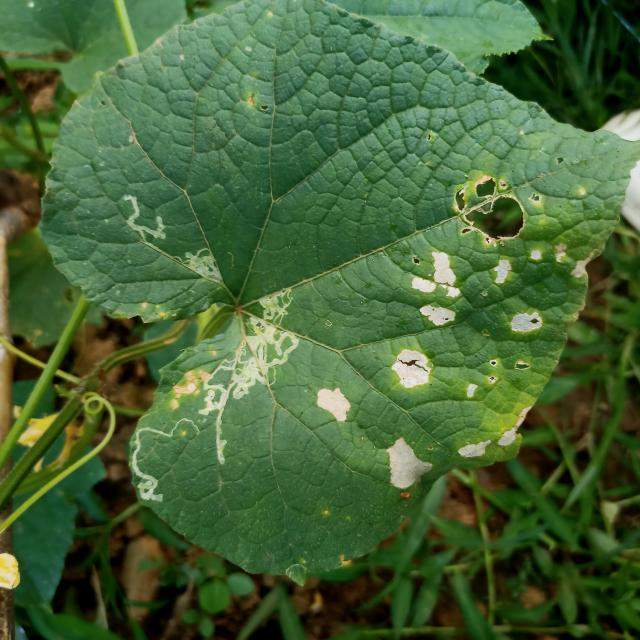disease_cucumber: (309, 175, 612, 528)
